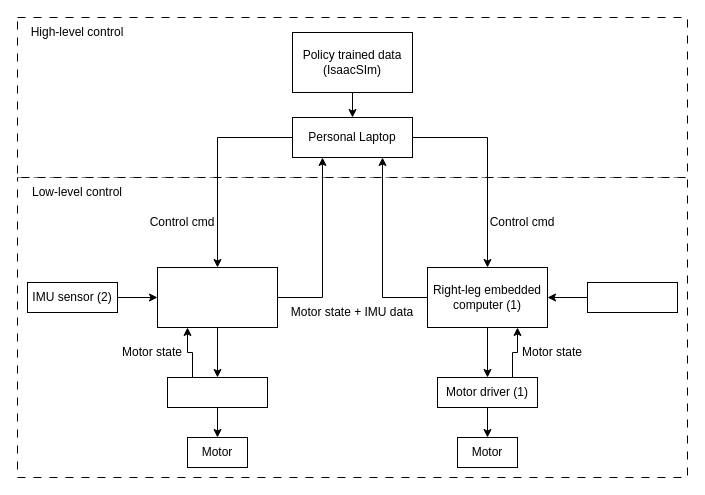
The diagram is 705 pixels wide and 495 high, and some of its shapes have lost their labels. Here are the shapes that lost their labels. From the top down, the centre of each, then its label:
At point 217,297: "Left-leg embedded computer (2)".
At point 632,297: "IMU sensor (1)".
At point 217,392: "Motor driver (2)".
